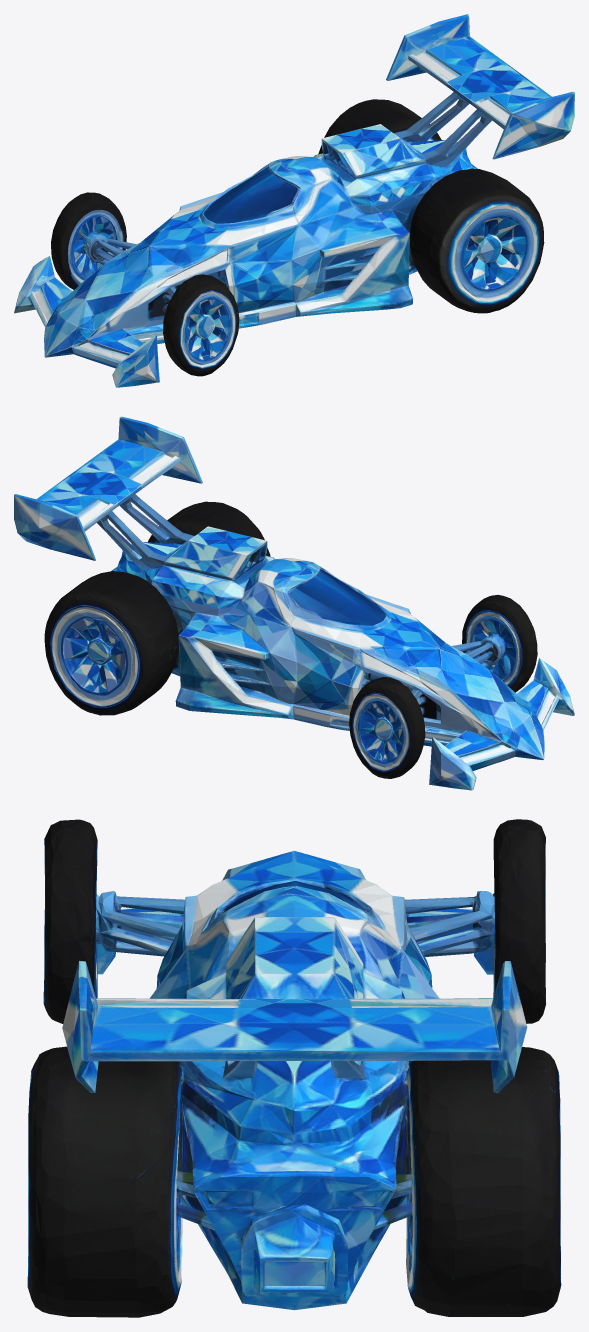
File: diamond_dragster.glb
3 renders of one model, top to bottom at view 1: azimuth 30°, elevation 25°; view 2: azimuth 150°, elevation 25°; view 3: azimuth 270°, elevation 25°, orthographic. The views are drawn at different scales.
Parts seen in each view (by area): view 1: geometry_0; view 2: geometry_0; view 3: geometry_0.
Part boxes in pixels (<box>): geometry_0: <box>14,14,574,387</box>; geometry_0: <box>14,416,574,790</box>; geometry_0: <box>27,819,561,1317</box>.
Size of the model in its own units: 1.9 by 0.734 by 0.9198.
1 material, 1 textured.
